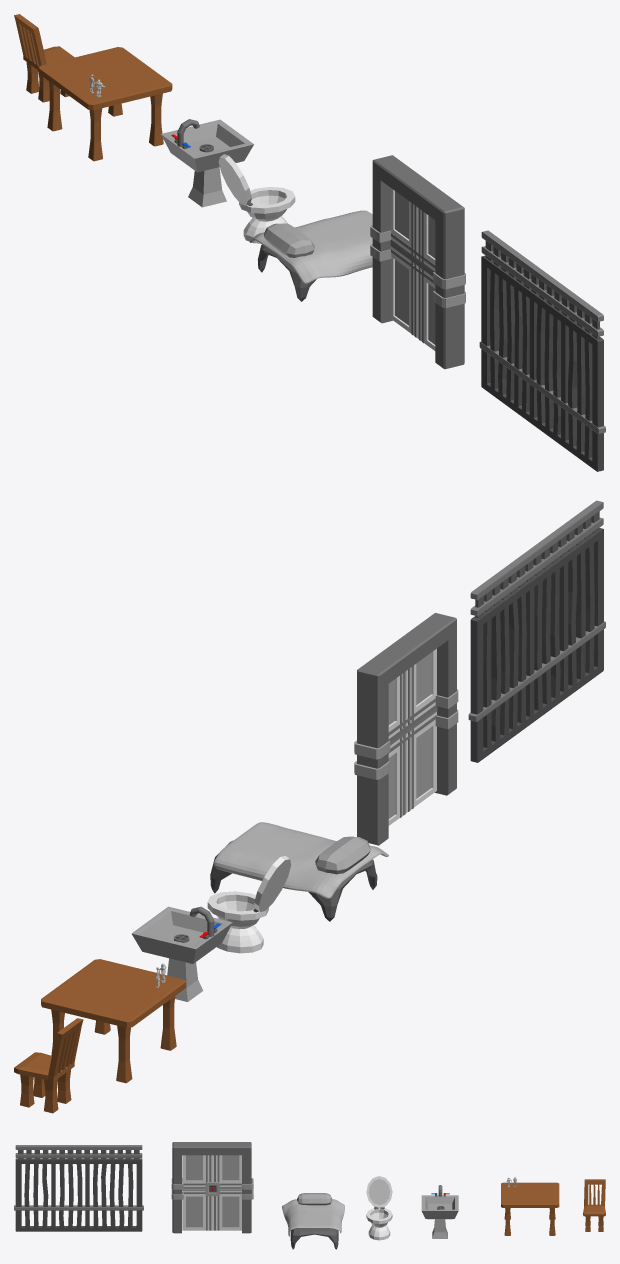
File: cellassest.fbx
3 renders of one model, top to bottom at view 1: azimuth 30°, elevation 25°; view 2: azimuth 150°, elevation 25°; view 3: azimuth 270°, elevation 25°, orthographic. The views are drawn at different scales.
Visible parts, largest first — view 1: Cube.004, Cube.007, Cube.018, Cube.011, Cube.017, Cylinder.001, Cube.008, Cube.020, Cube.013, Cube.012, Cube.014; view 2: Cube.004, Cube.007, Cube.011, Cube.018, Cube.017, Cylinder.001, Cube.020, Cube.012, Cube.014, Cube.008, Cube.013; view 3: Cube.004, Cube.007, Cube.011, Cube.018, Cylinder.001, Cube.012, Cube.008, Cube.017, Cube.014, Cube.013, Cube.020.
Part boxes in pixels (x1=…): Cube.004: x1=479, y1=230, x2=605, y2=471; Cube.007: x1=370, y1=155, x2=465, y2=369; Cube.018: x1=38, y1=47, x2=172, y2=161; Cube.011: x1=249, y1=210, x2=372, y2=301; Cube.017: x1=161, y1=119, x2=253, y2=207; Cylinder.001: x1=218, y1=154, x2=295, y2=243; Cube.008: x1=390, y1=242, x2=417, y2=338; Cube.020: x1=14, y1=14, x2=74, y2=102; Cube.013: x1=390, y1=188, x2=417, y2=261; Cube.012: x1=417, y1=262, x2=435, y2=350; Cube.014: x1=417, y1=208, x2=435, y2=272; Cube.004: x1=468, y1=500, x2=605, y2=762; Cube.007: x1=354, y1=613, x2=458, y2=845; Cube.011: x1=210, y1=822, x2=388, y2=921; Cube.018: x1=41, y1=959, x2=186, y2=1083; Cube.017: x1=131, y1=906, x2=232, y2=1001; Cylinder.001: x1=207, y1=856, x2=291, y2=953; Cube.020: x1=14, y1=1018, x2=83, y2=1113; Cube.012: x1=406, y1=708, x2=437, y2=812; Cube.014: x1=406, y1=648, x2=437, y2=729; Cube.008: x1=388, y1=730, x2=407, y2=825; Cube.013: x1=388, y1=671, x2=407, y2=741; Cube.004: x1=14, y1=1145, x2=143, y2=1231; Cube.007: x1=171, y1=1142, x2=253, y2=1233; Cube.011: x1=282, y1=1193, x2=344, y2=1249; Cube.018: x1=501, y1=1182, x2=559, y2=1235; Cylinder.001: x1=366, y1=1176, x2=392, y2=1240; Cube.012: x1=182, y1=1188, x2=212, y2=1230; Cube.008: x1=212, y1=1188, x2=241, y2=1230; Cube.017: x1=421, y1=1185, x2=458, y2=1238; Cube.014: x1=182, y1=1155, x2=212, y2=1189; Cube.013: x1=212, y1=1155, x2=241, y2=1189; Cube.020: x1=583, y1=1179, x2=605, y2=1231.
Bounding box in the file's own units: 314 × 382 × 2233.
